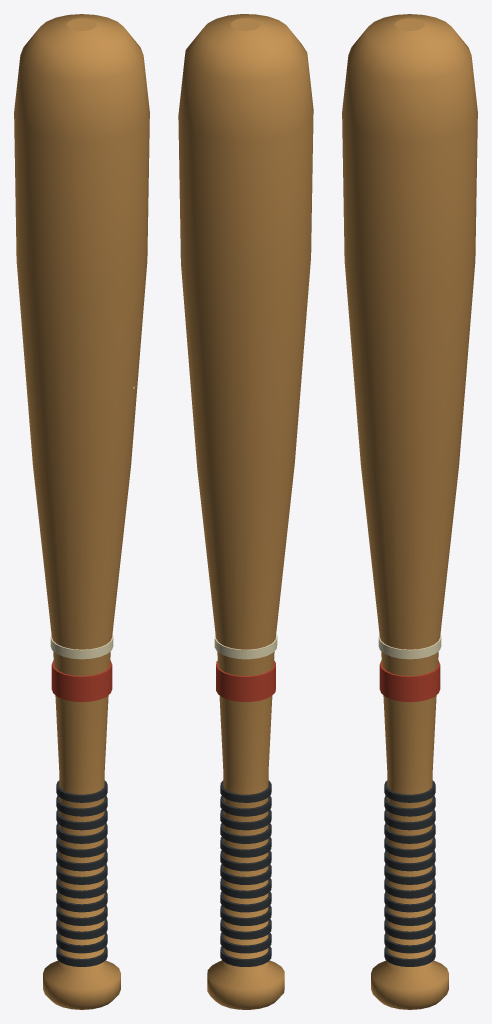
File: baseball_bat_lod0.glb
The picture shows the model from 3 angles, left to right: view 1: azimuth 90°, elevation 25°; view 2: azimuth 150°, elevation 25°; view 3: azimuth 270°, elevation 25°; orthographic projection.
Visible parts, largest first — view 1: baseball_bat; view 2: baseball_bat; view 3: baseball_bat.
Boxes of the visible parts, <box> form: baseball_bat: <box>14,14,149,1009</box>; baseball_bat: <box>178,14,313,1009</box>; baseball_bat: <box>342,14,477,1009</box>.
Size of the model in its own units: 0.108 by 0.852 by 0.108.
